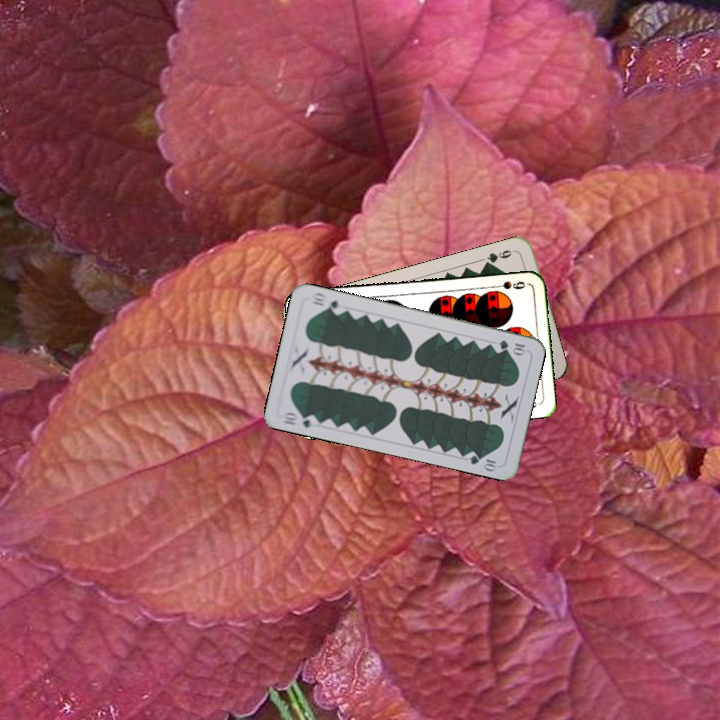G10: (279, 408, 320, 430), (495, 336, 529, 356)
G9: (480, 246, 519, 269)
S9: (488, 277, 528, 292)
